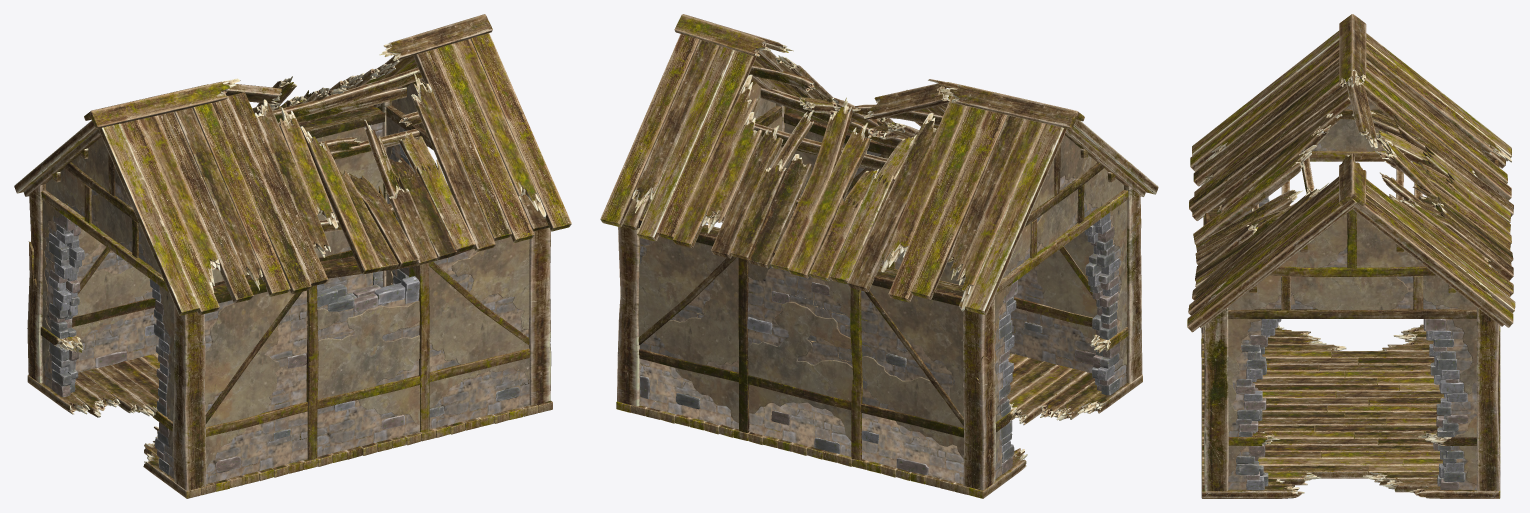
3 views of the same model, side by side, from view 1: azimuth 30°, elevation 25°; view 2: azimuth 150°, elevation 25°; view 3: azimuth 270°, elevation 25° (orthographic). The views are drawn at different scales.
Visible parts, largest first — view 1: SM_Dmg_VillageHouse_01_LOD0; view 2: SM_Dmg_VillageHouse_01_LOD0; view 3: SM_Dmg_VillageHouse_01_LOD0.
Boxes of the visible parts, box(x1,y1,x2,y2) form: SM_Dmg_VillageHouse_01_LOD0: box(14, 14, 571, 498); SM_Dmg_VillageHouse_01_LOD0: box(600, 14, 1158, 498); SM_Dmg_VillageHouse_01_LOD0: box(1187, 14, 1515, 498).
Bounding box in the file's own units: 6.94 × 5.59 × 5.32.
4 materials, 4 textured.
